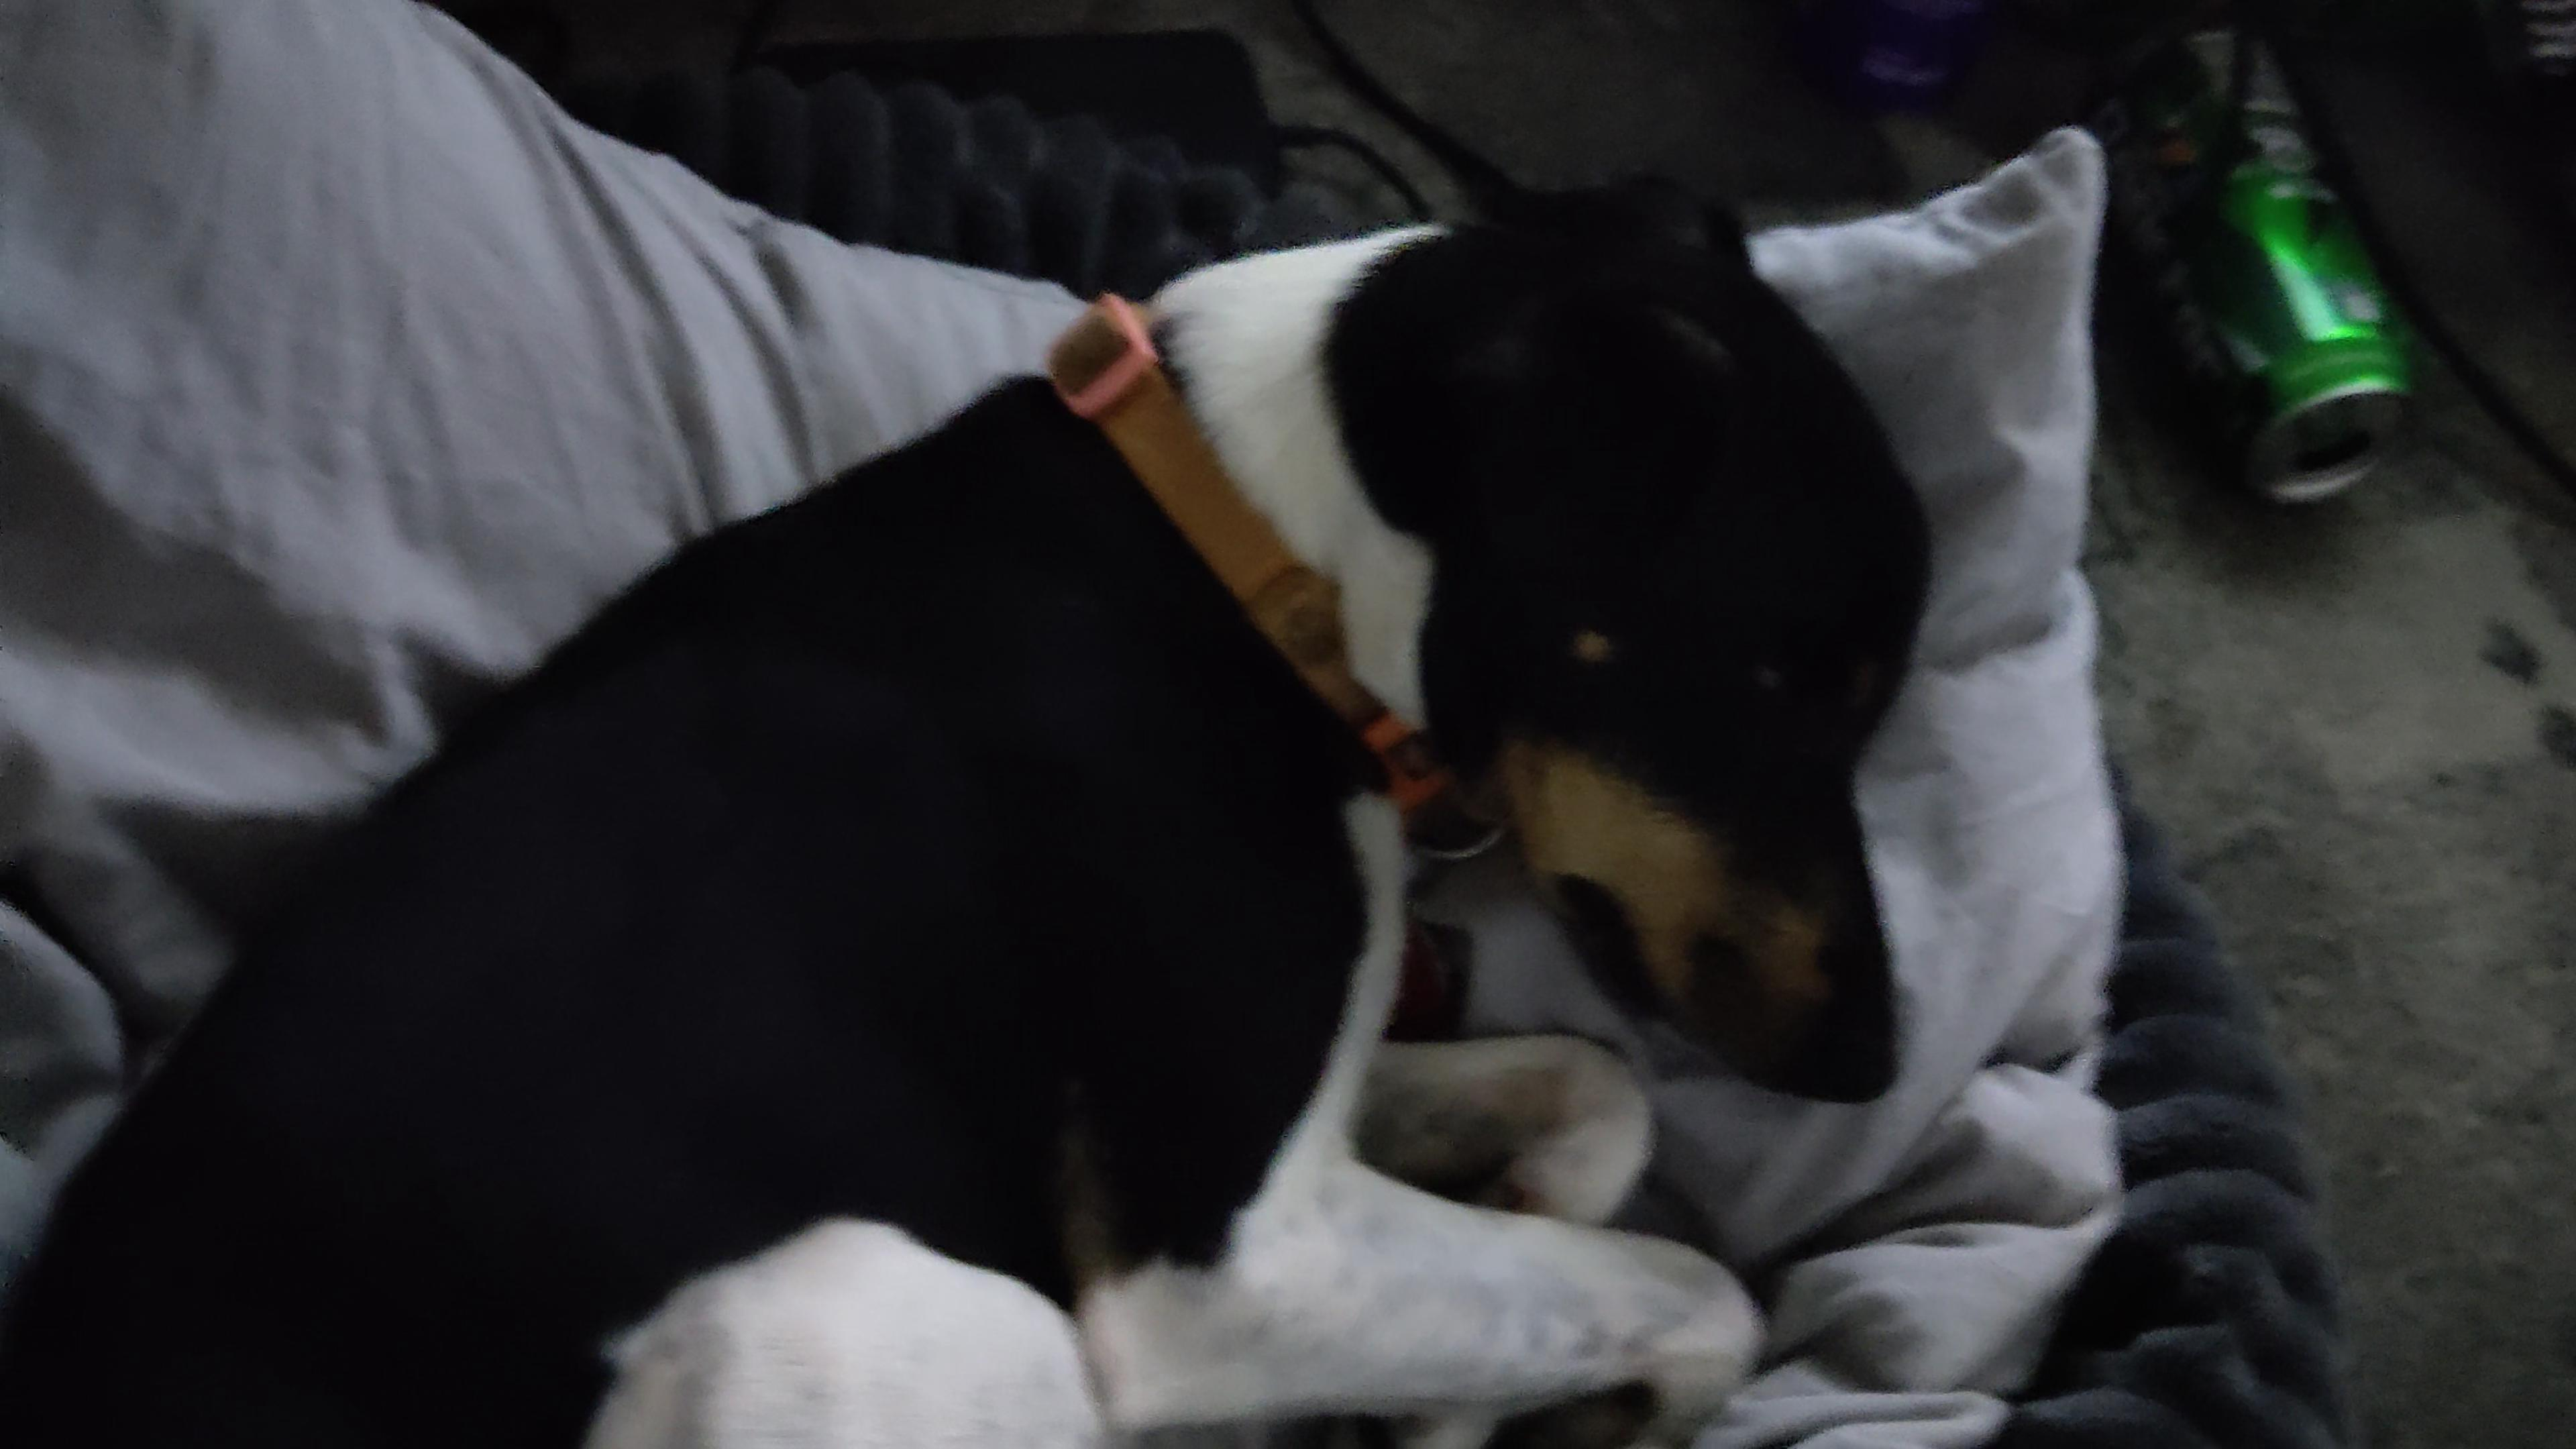Dog: (0, 165, 1966, 1449)
